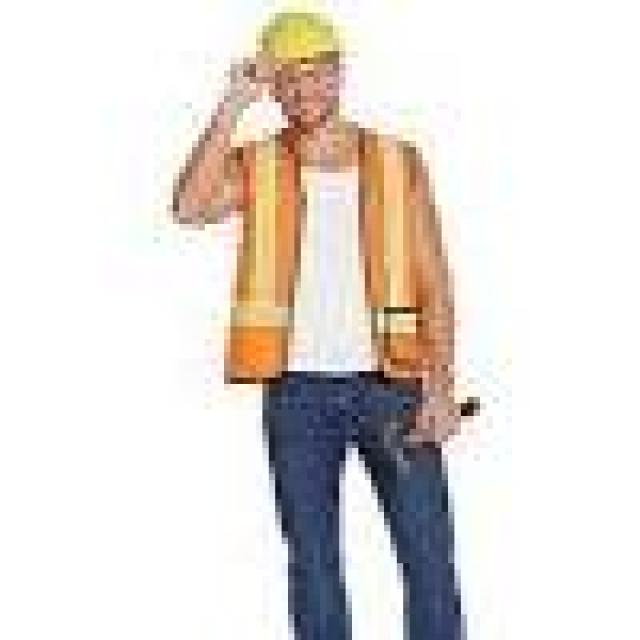Reflective-Jacket: (230, 116, 448, 390)
Safety-Helmet: (218, 0, 378, 90)
